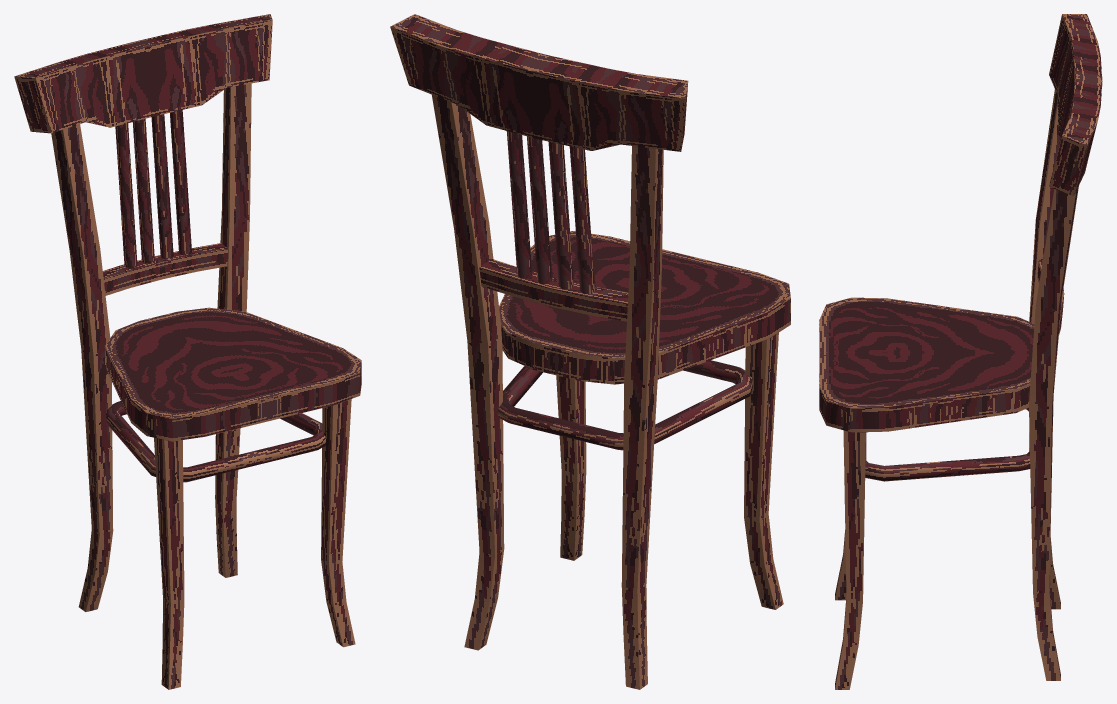
File: chair.glb
The picture shows the model from 3 angles, left to right: view 1: azimuth 30°, elevation 25°; view 2: azimuth 150°, elevation 25°; view 3: azimuth 270°, elevation 25°; orthographic projection. The views are drawn at different scales.
Parts seen in each view (by area): view 1: Cube, Cube.003, Cube.002, Cube.001, Cylinder.001, Cylinder, Cube.004; view 2: Cube.003, Cube.002, Cube, Cube.001, Cylinder.001, Cylinder, Cube.004; view 3: Cube, Cube.003, Cube.002, Cube.001, Cylinder.
Part boxes in pixels (x1,y1,x2,y2): Cube: (105,307,361,441); Cube.003: (51,83,251,611); Cube.002: (14,14,272,133); Cube.001: (154,399,355,689); Cylinder.001: (115,110,191,268); Cylinder: (106,401,325,482); Cube.004: (103,243,227,295); Cube.003: (432,94,663,689); Cube.002: (390,14,688,151); Cube: (499,231,790,384); Cube.001: (556,332,783,609); Cylinder.001: (506,131,595,293); Cylinder: (498,360,752,450); Cube.004: (479,259,628,321); Cube: (819,297,1034,432); Cube.003: (1029,89,1078,680); Cube.002: (1049,14,1102,195); Cube.001: (835,430,865,689); Cylinder: (865,407,1030,481).
Size of the model in its own units: 0.4875 by 0.9797 by 0.4431.
1 material, 1 textured.
